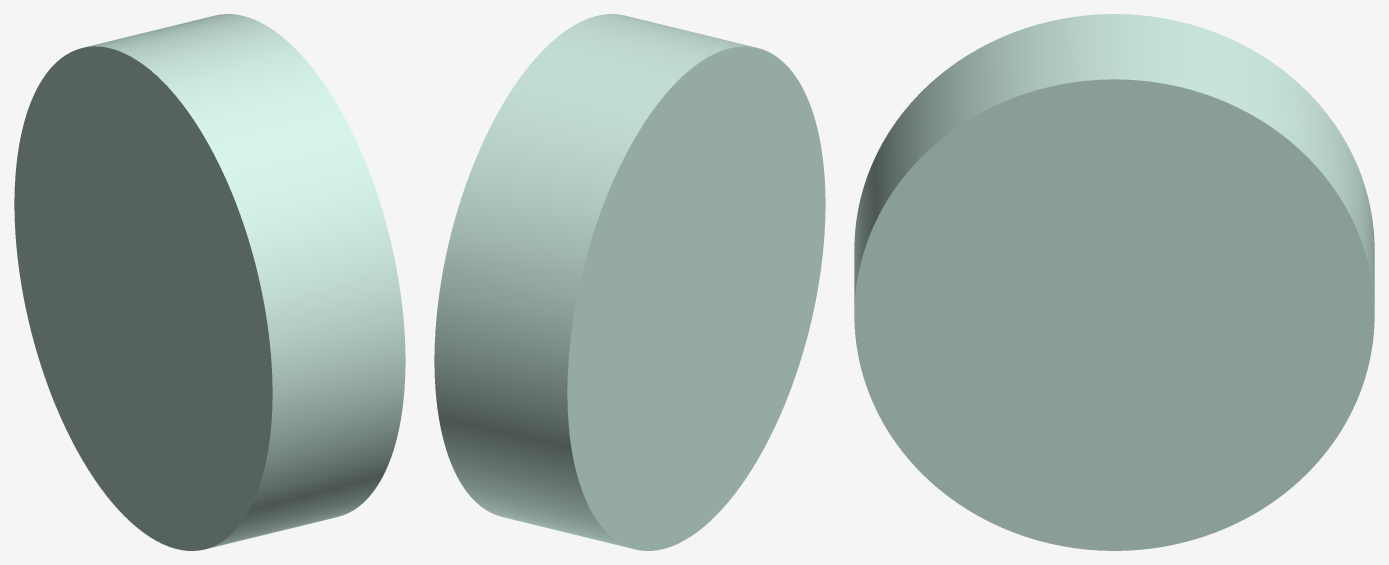
3 views of the same model, side by side, from view 1: azimuth 30°, elevation 25°; view 2: azimuth 150°, elevation 25°; view 3: azimuth 270°, elevation 25° (orthographic).
Visible parts, largest first — view 1: Renderer Node; view 2: Renderer Node; view 3: Renderer Node.
Boxes of the visible parts, left/top/right/bottom form: Renderer Node: left=14, top=14, right=405, bottom=550; Renderer Node: left=434, top=14, right=825, bottom=550; Renderer Node: left=854, top=14, right=1374, bottom=550.
Size of the model in its own units: 0.4531 by 1.52 by 1.52.
